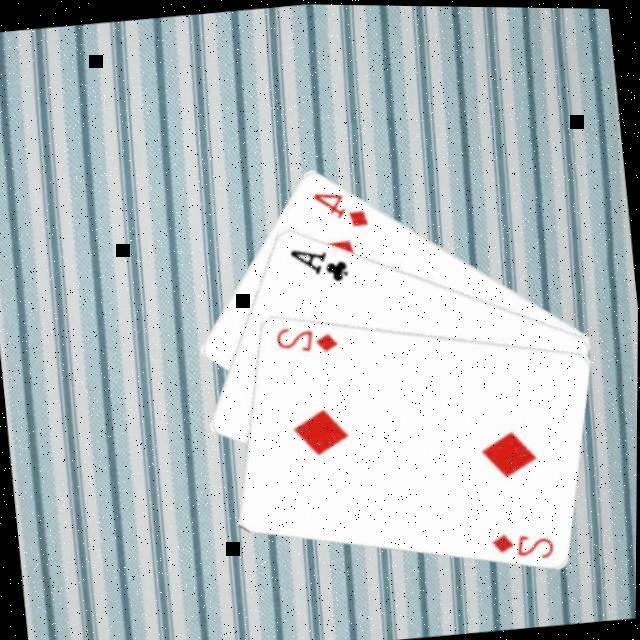2D: (268, 315, 339, 359), (485, 520, 556, 564)
4D: (306, 180, 370, 232)
AC: (282, 237, 350, 288)
